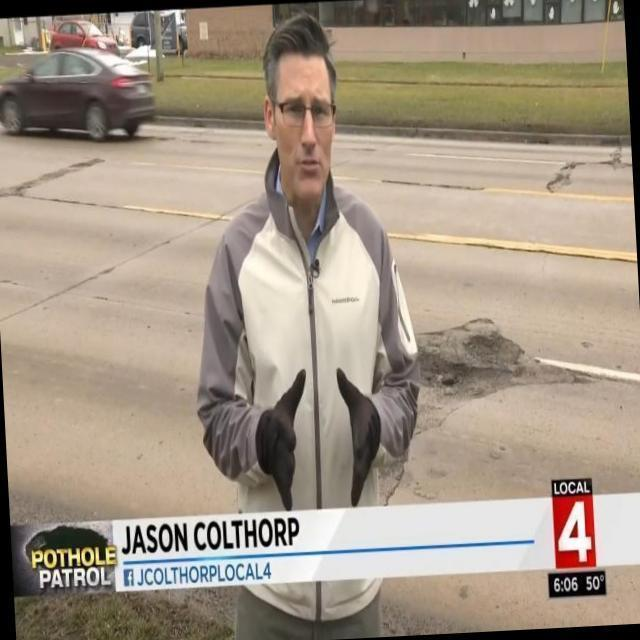pothole: (422, 324, 583, 408), (547, 164, 576, 201)
